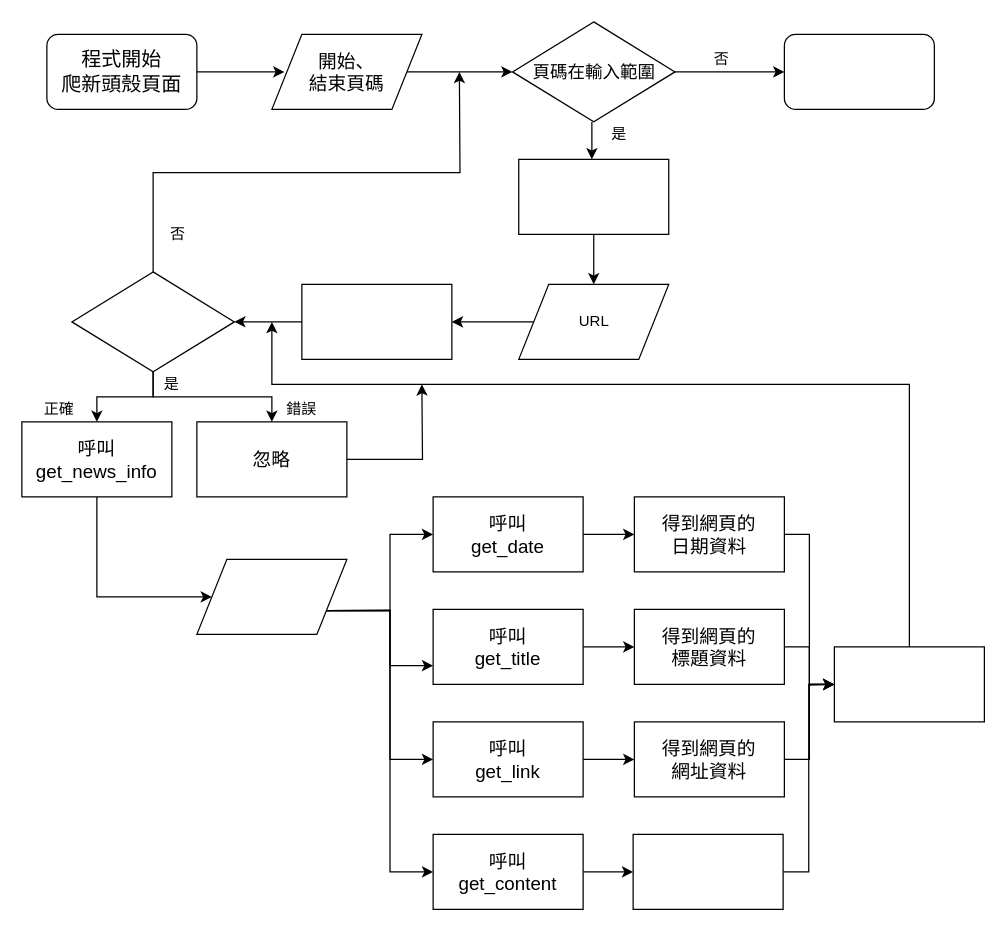
Image size: 1006x931. Some labels were removed from this diagram. The shapes that lost their labels are listed below. From the top down, each one's centre as x and y in pixels, then its label:
point 858,71: 得到新聞資料 程式結束
point 593,196: 呼叫 get_page_news
point 152,321: URL在 new_block裡
point 376,321: 用BeautifulSoup 做成需要的格式 (new_block)
point 271,596: news_blocks
point 908,684: 得到info (data type: 字典)
point 707,871: 得到網頁的 內容資料
